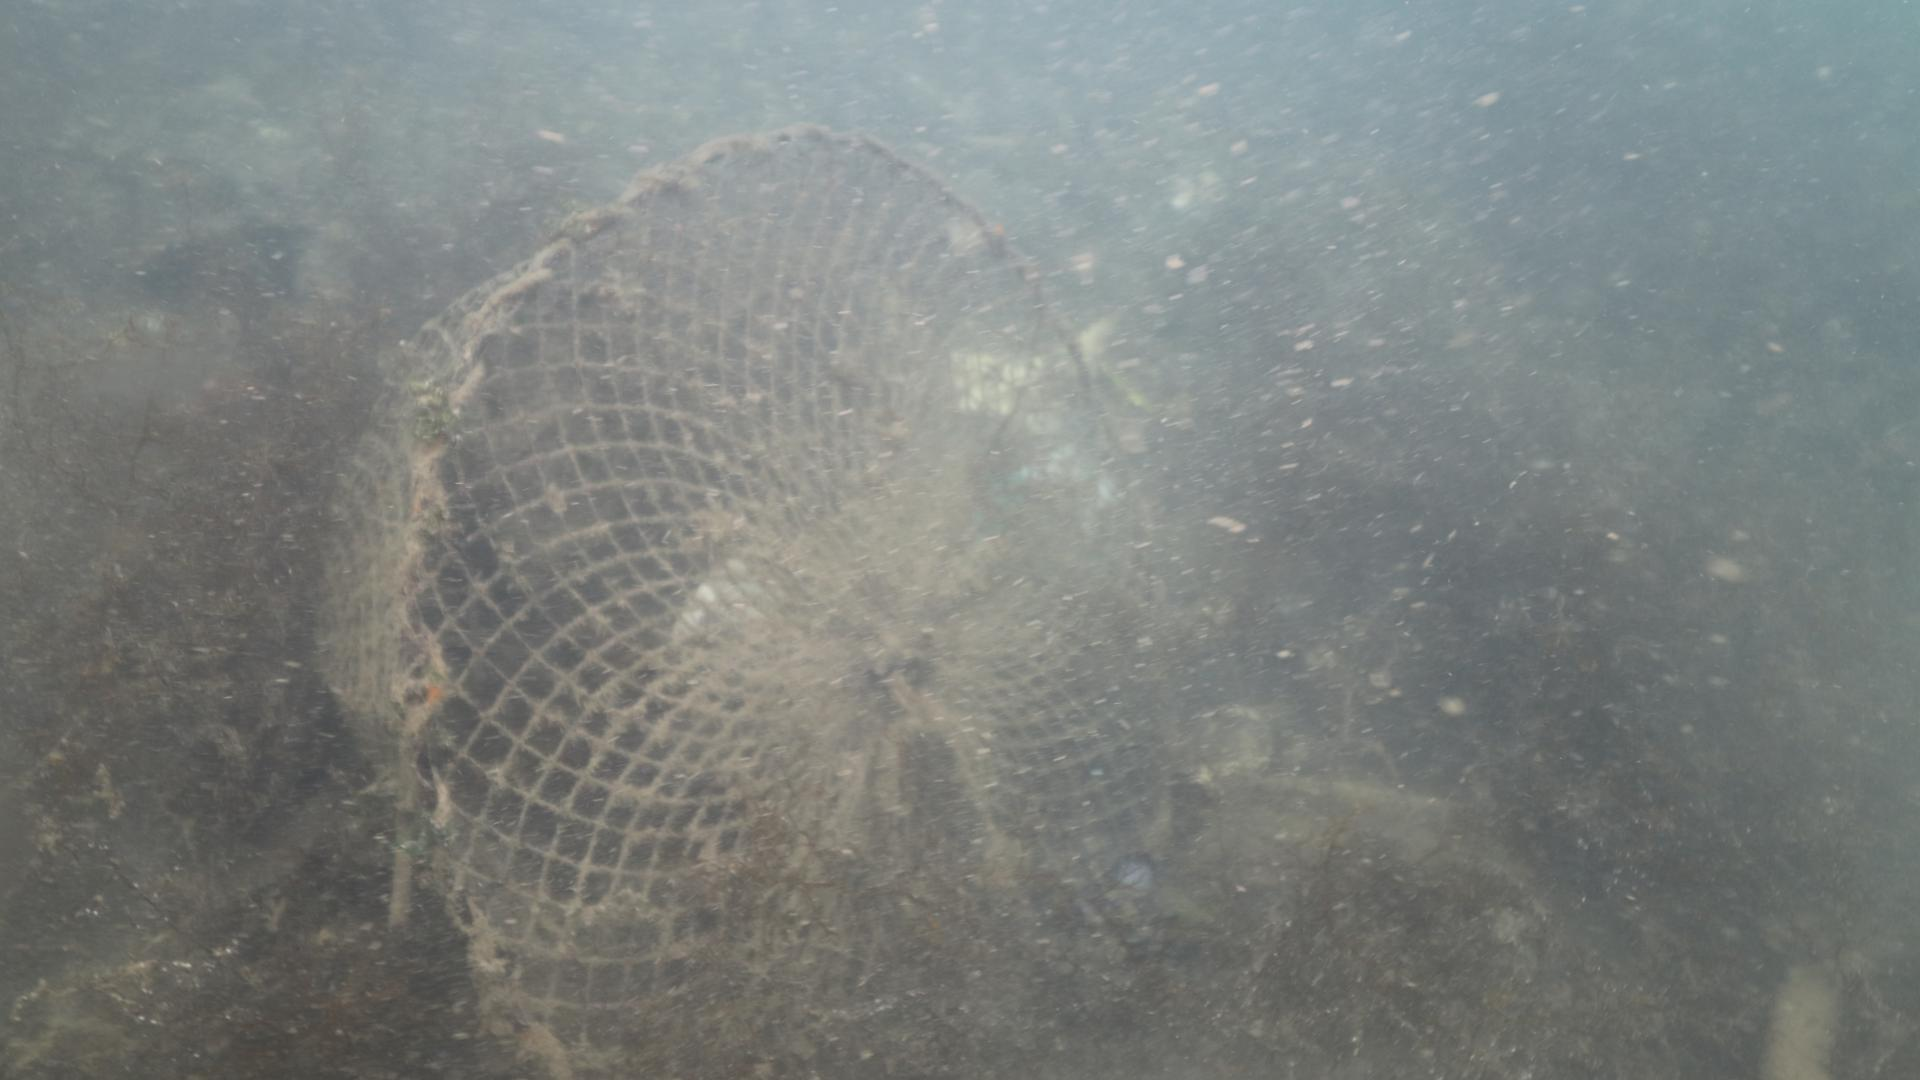circular fish trap: (318, 119, 1174, 1080)
